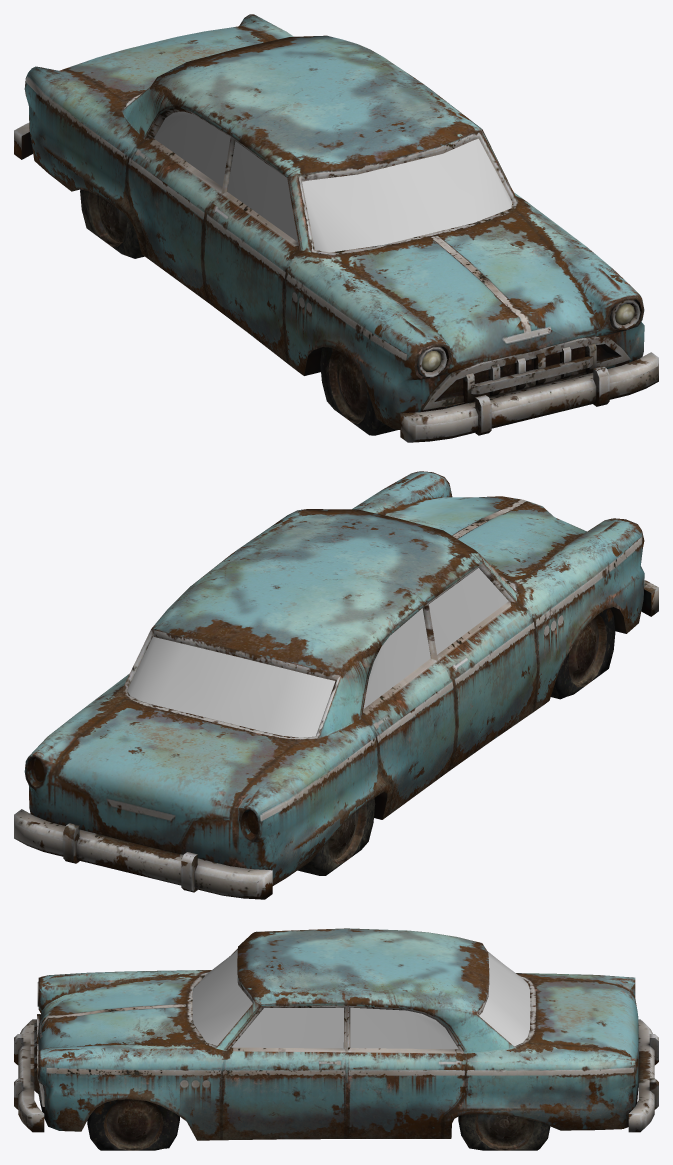
File: carro.obj
The picture shows the model from 3 angles, top to bottom: view 1: azimuth 30°, elevation 25°; view 2: azimuth 150°, elevation 25°; view 3: azimuth 270°, elevation 25°; orthographic projection. The views are drawn at different scales.
Visible parts, largest first — view 1: Object006_Material_#294_0; view 2: Object006_Material_#294_0; view 3: Object006_Material_#294_0.
Part boxes in pixels (box(x1,y1,x2,y2)): Object006_Material_#294_0: box(14, 14, 658, 442); Object006_Material_#294_0: box(14, 471, 658, 899); Object006_Material_#294_0: box(14, 928, 658, 1150).
Size of the model in its own units: 260 by 184 by 724.
Materials: 2 (1 with a texture image).
